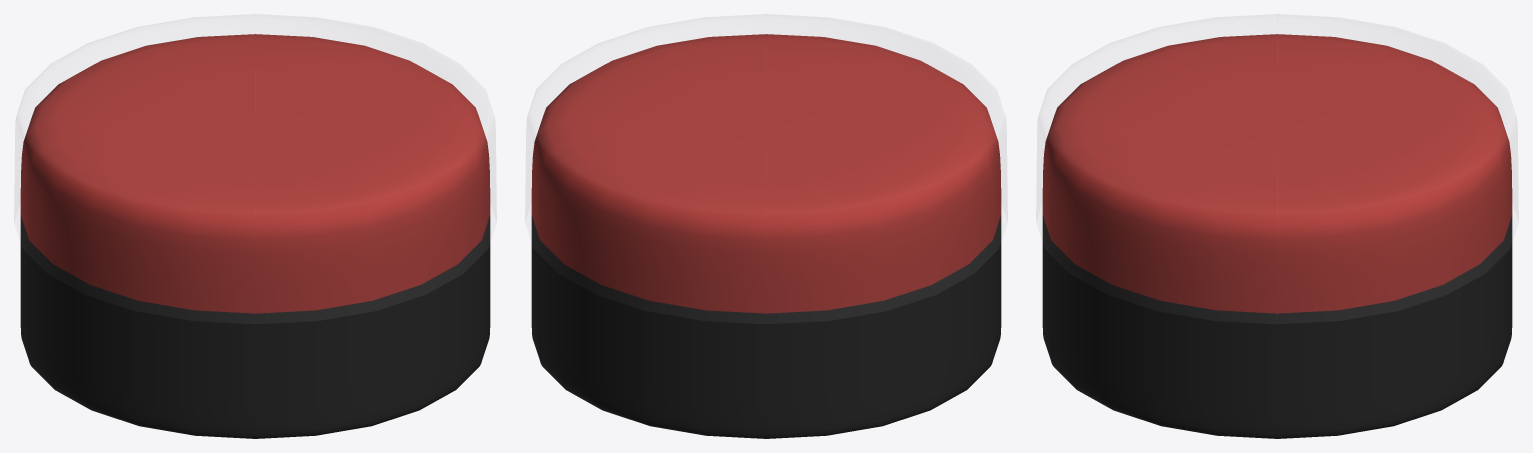
The model's file is voyant.fbx.
3 views of the same model, side by side, from view 1: azimuth 30°, elevation 25°; view 2: azimuth 150°, elevation 25°; view 3: azimuth 270°, elevation 25° (orthographic).
Parts seen in each view (by area): view 1: voy; view 2: voy; view 3: voy.
Part boxes in pixels (box(x1,y1,x2,y2)): voy: box(14, 14, 496, 438); voy: box(525, 14, 1007, 438); voy: box(1036, 14, 1518, 438).
Bounding box in the file's own units: 0.0424 × 0.0225 × 0.0426.
